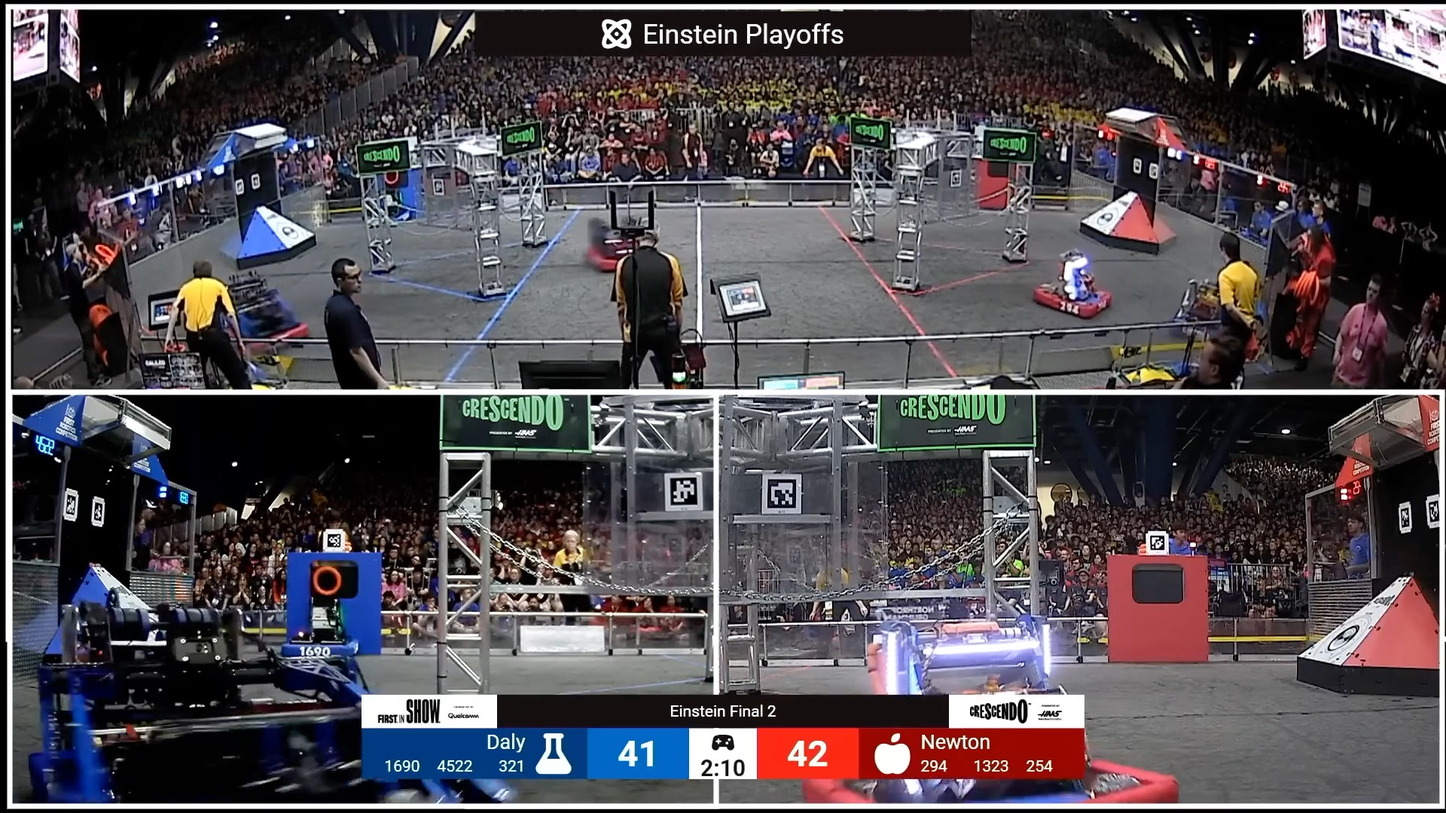bumpers: (787, 750, 1190, 803), (1030, 282, 1121, 323), (213, 315, 312, 352), (588, 238, 645, 276), (281, 637, 365, 660)
